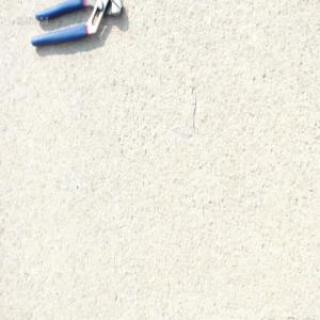Pliertrack_idkeyframe: (29, 0, 125, 49)
